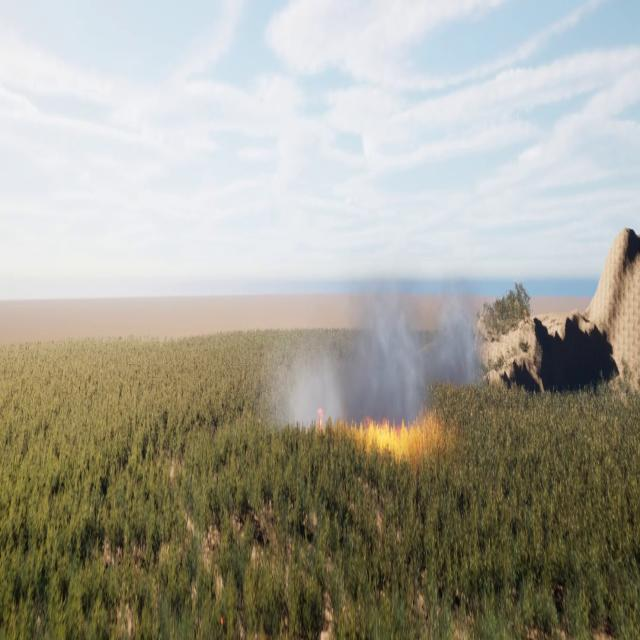fire: (347, 413, 451, 452), (314, 398, 328, 426)
smoke: (265, 275, 482, 438)
